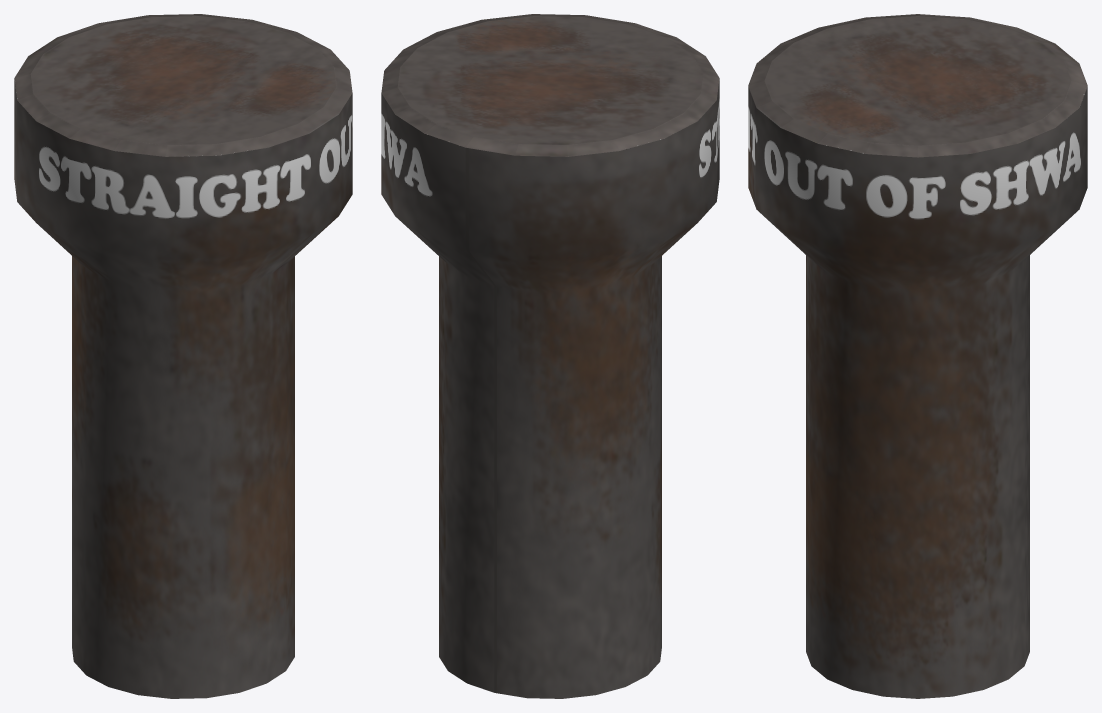
File: Water Tower.dae
The picture shows the model from 3 angles, left to right: view 1: azimuth 30°, elevation 25°; view 2: azimuth 150°, elevation 25°; view 3: azimuth 270°, elevation 25°; orthographic projection.
Parts seen in each view (by area): view 1: pCylinder1; view 2: pCylinder1; view 3: pCylinder1.
Boxes of the visible parts, x1,y1,x2,y2 form: pCylinder1: (14, 14, 352, 698); pCylinder1: (381, 14, 719, 698); pCylinder1: (748, 14, 1087, 698).
Bounding box in the file's own units: 15.15 × 28.09 × 15.15.
